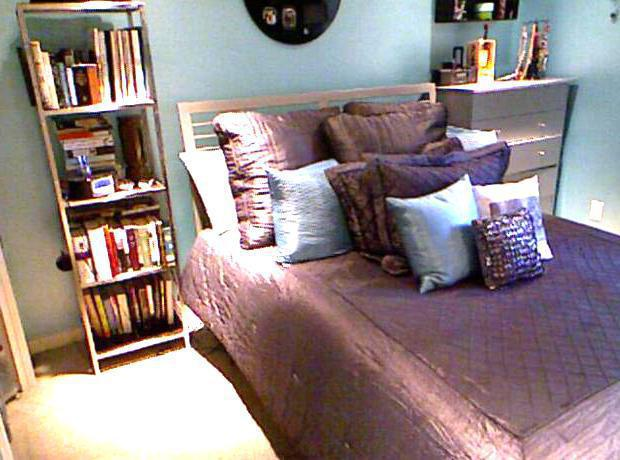Armario: (443, 83, 564, 259)
